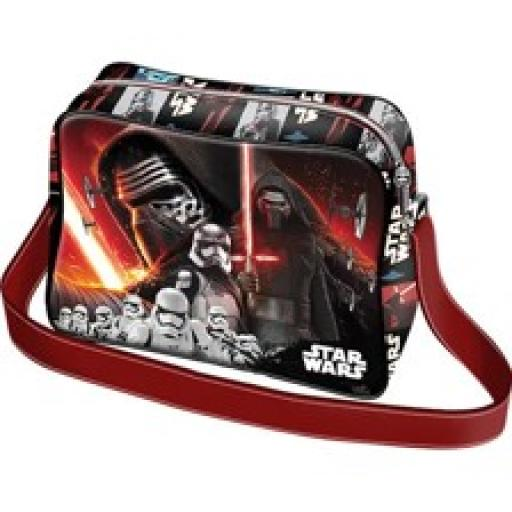sith saber: (225, 144, 280, 309)
